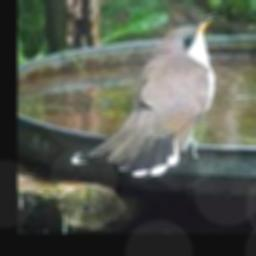Cuckoo: (72, 13, 218, 175)
